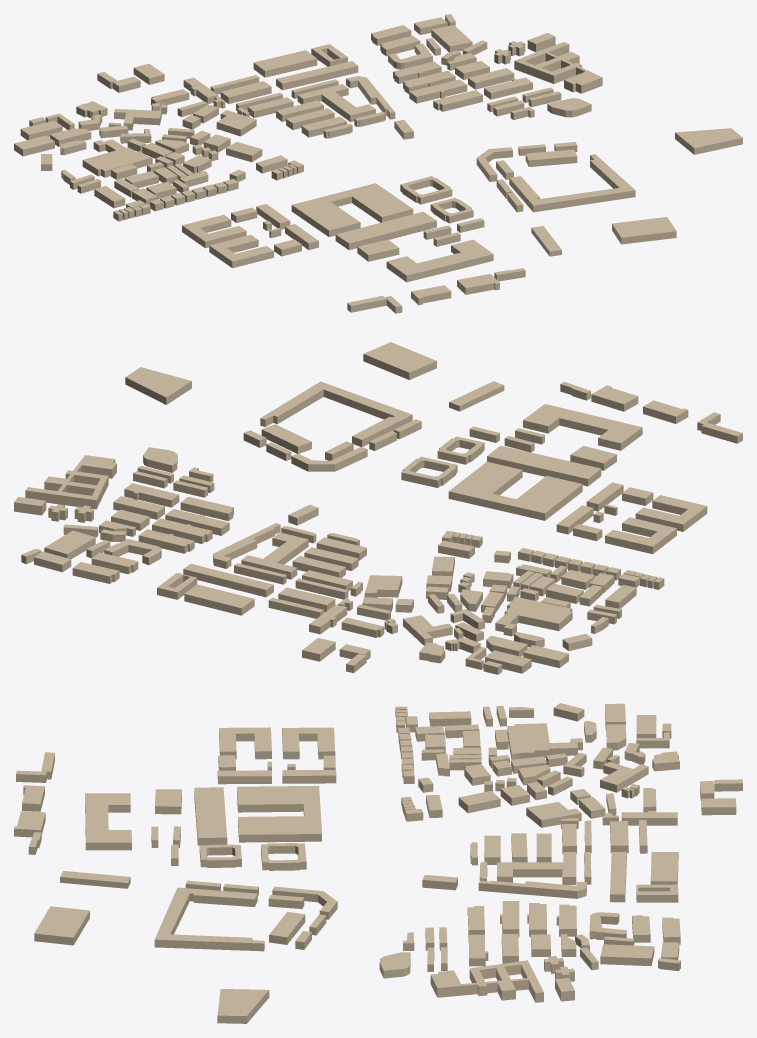
The model's file is -12_15-estimated-coarse.glb.
3 renders of one model, top to bottom at view 1: azimuth 30°, elevation 25°; view 2: azimuth 150°, elevation 25°; view 3: azimuth 270°, elevation 25°, orthographic. The views are drawn at different scales.
Bounding box in the file's own units: 1042 × 15 × 1025.
